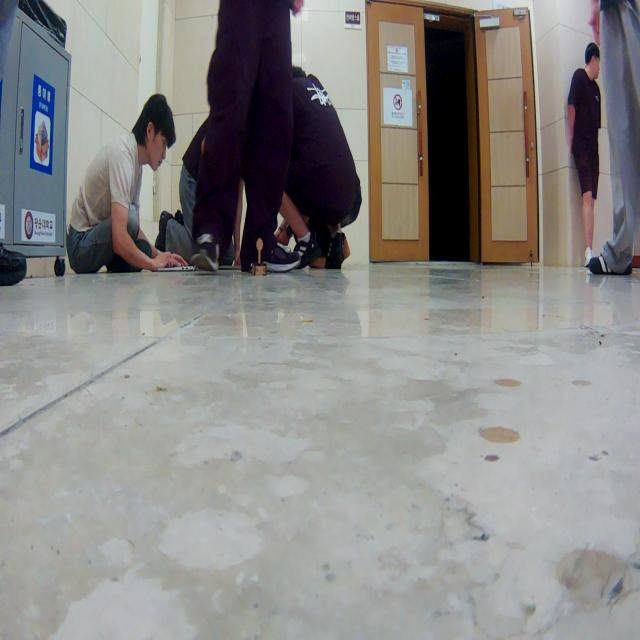target: (251, 238, 267, 276)
